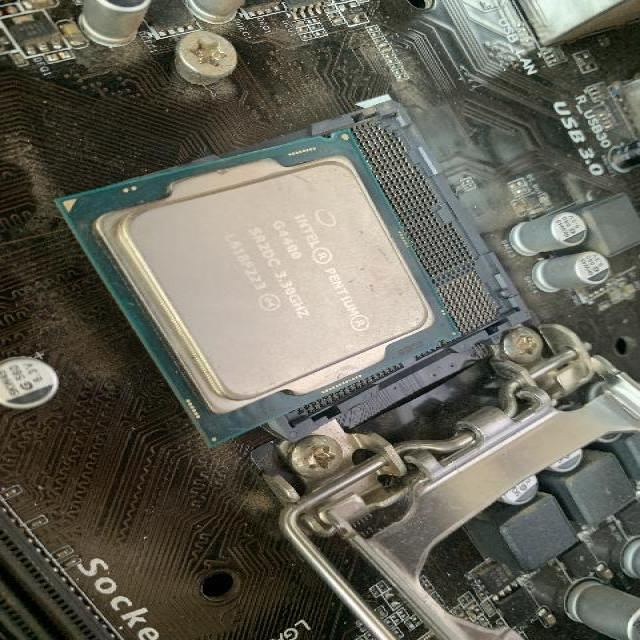CPU: (50, 128, 461, 448)
Mainboard: (0, 0, 640, 640)
